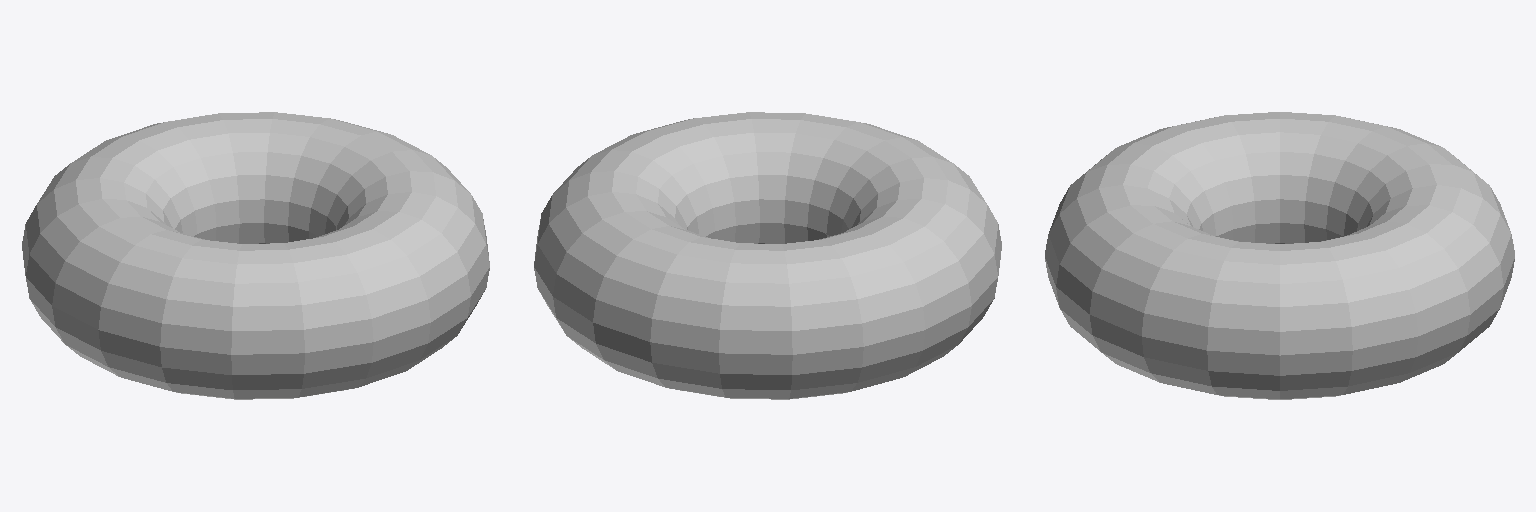
Rendered from taurus.obj.
3 renders of one model, left to right at view 1: azimuth 30°, elevation 25°; view 2: azimuth 150°, elevation 25°; view 3: azimuth 270°, elevation 25°, orthographic.
Parts seen in each view (by area): view 1: pTorus1; view 2: pTorus1; view 3: pTorus1.
Boxes of the visible parts, x1=… form: pTorus1: x1=22, y1=112, x2=489, y2=399; pTorus1: x1=534, y1=112, x2=1001, y2=399; pTorus1: x1=1045, y1=112, x2=1514, y2=399.
Size of the model in its own units: 3 by 1 by 3.